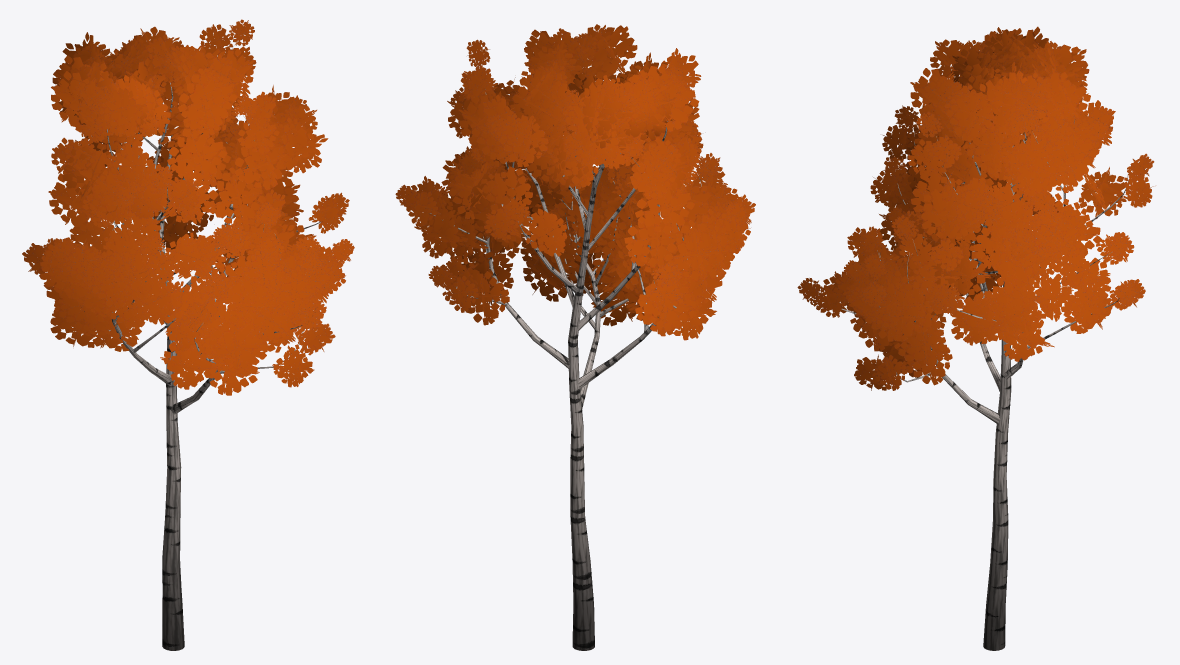
Rendered from tree-health-4-mature.glb.
3 views of the same model, side by side, from view 1: azimuth 30°, elevation 25°; view 2: azimuth 150°, elevation 25°; view 3: azimuth 270°, elevation 25° (orthographic). The views are drawn at different scales.
Parts seen in each view (by area): view 1: Birch_4; view 2: Birch_4; view 3: Birch_4.
Boxes of the visible parts, x1,y1,x2,y2 form: Birch_4: (22, 19, 354, 650); Birch_4: (395, 24, 755, 650); Birch_4: (797, 26, 1154, 650).
Bounding box in the file's own units: 3.43 × 6.4 × 3.66.
2 materials, 2 textured.
